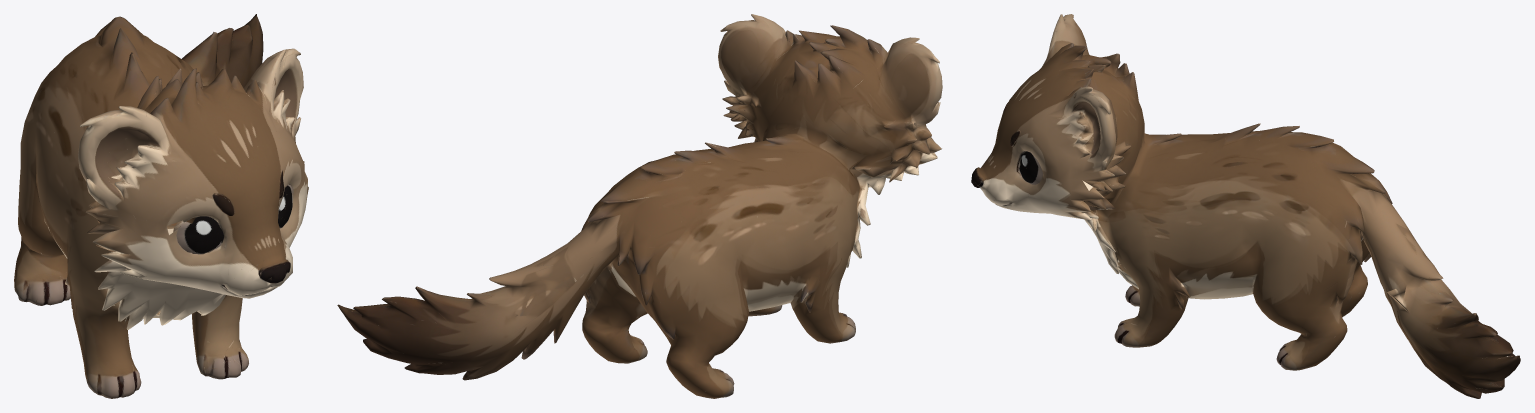
The model's file is Pok16. Civeta.glb.
3 renders of one model, left to right at view 1: azimuth 30°, elevation 25°; view 2: azimuth 150°, elevation 25°; view 3: azimuth 270°, elevation 25°, orthographic. The views are drawn at different scales.
Size of the model in its own units: 0.7314 by 0.5205 by 0.9492.
1 material, 1 textured.
